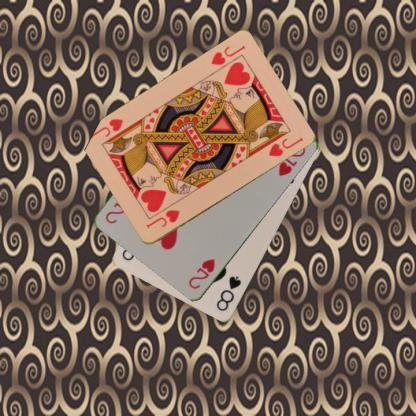2h: (186, 257, 217, 290)
8s: (214, 274, 243, 312)
Jh: (208, 43, 247, 67), (144, 207, 182, 230)
